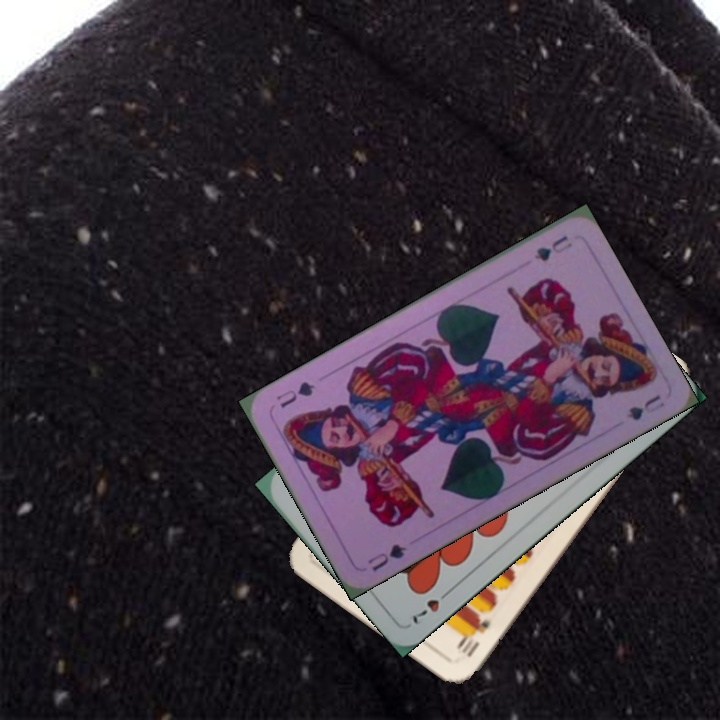E10: (455, 615, 494, 660)
GU: (363, 539, 409, 574), (530, 231, 575, 264)
H7: (408, 584, 455, 627)
